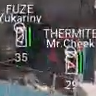hacks_1: (43, 28, 96, 90), (1, 4, 42, 63)
